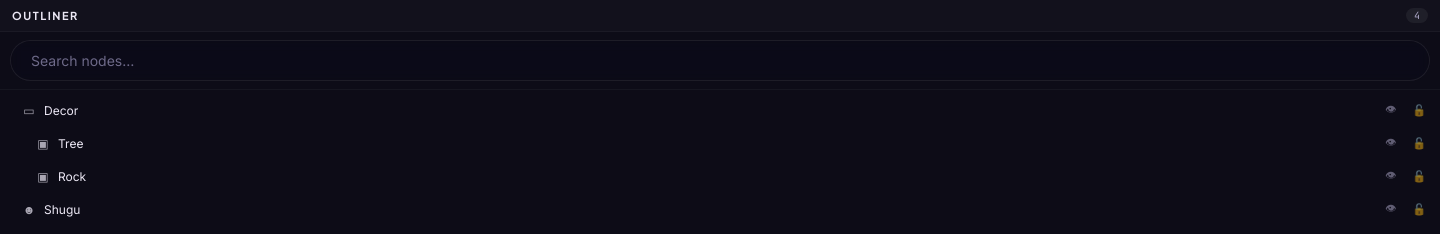
Test: Outliner — empty / search › filters by name (case-insensitive substring)
Type "tre" into the field with placeholder "Search nodes…" at [720, 60], box [10,40,1430,81]
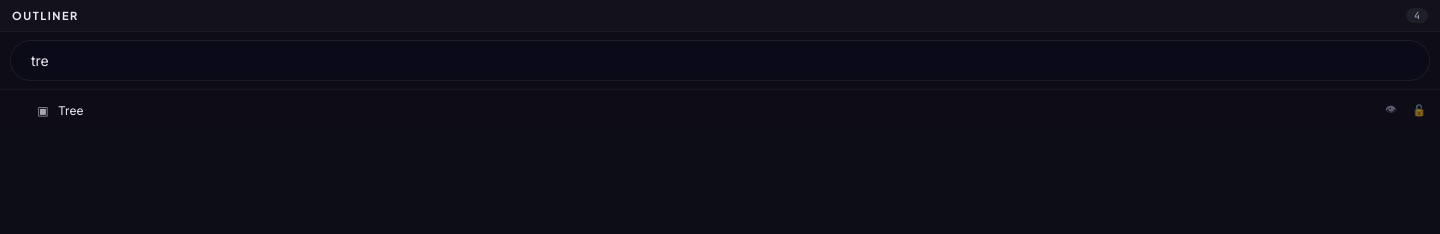
Expected: the text "Tree" is shown, [58,103,83,118]
Now the text "Rock" is gone
Now the text "Decor" is gone
